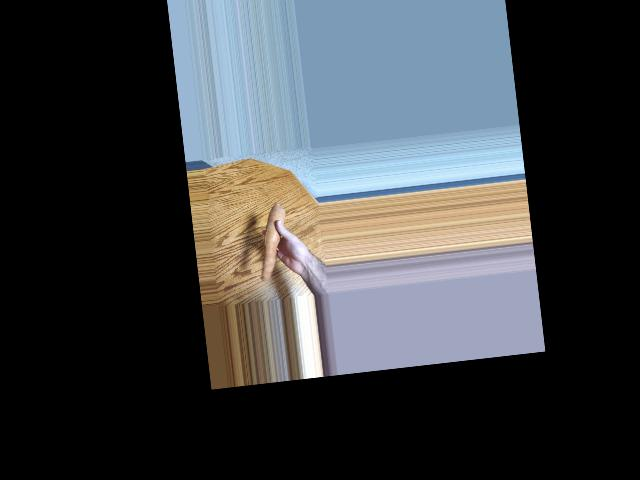sweet_potato: (259, 204, 289, 285)
